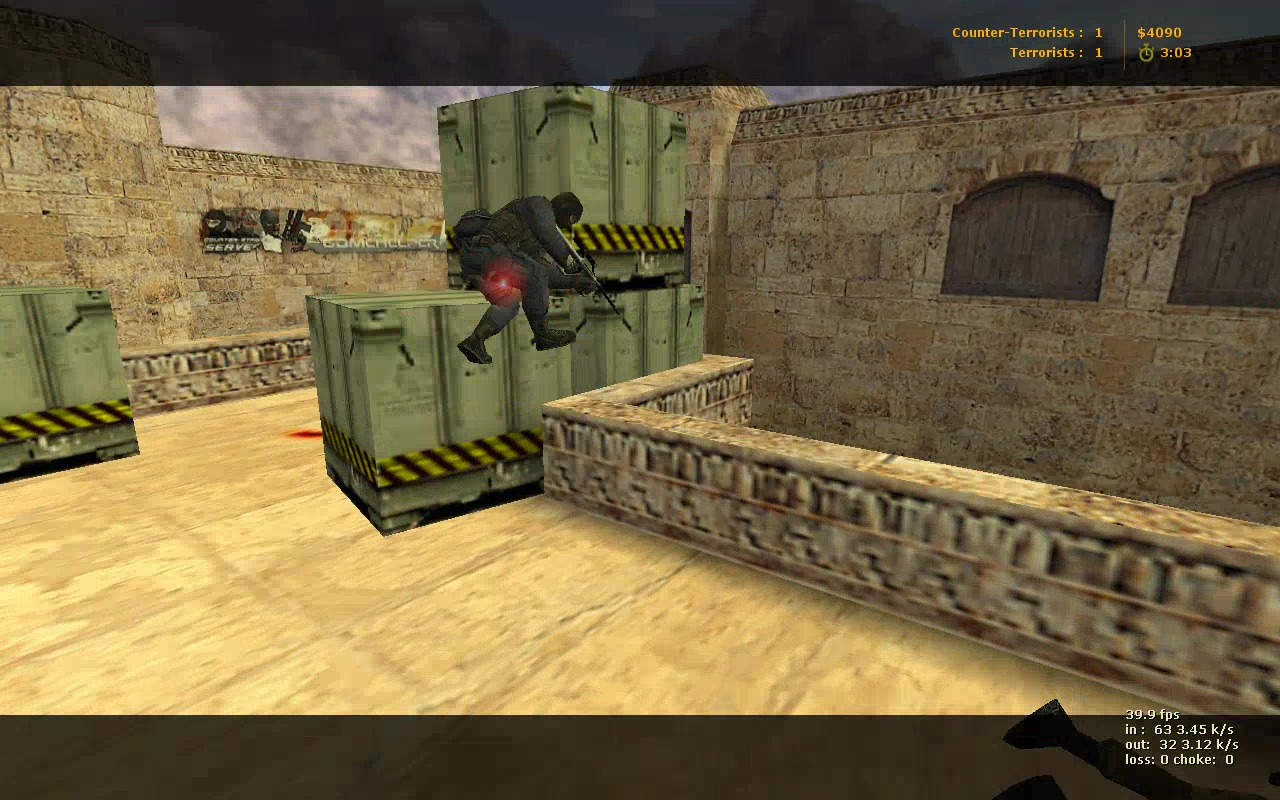ct: (449, 186, 592, 366)
